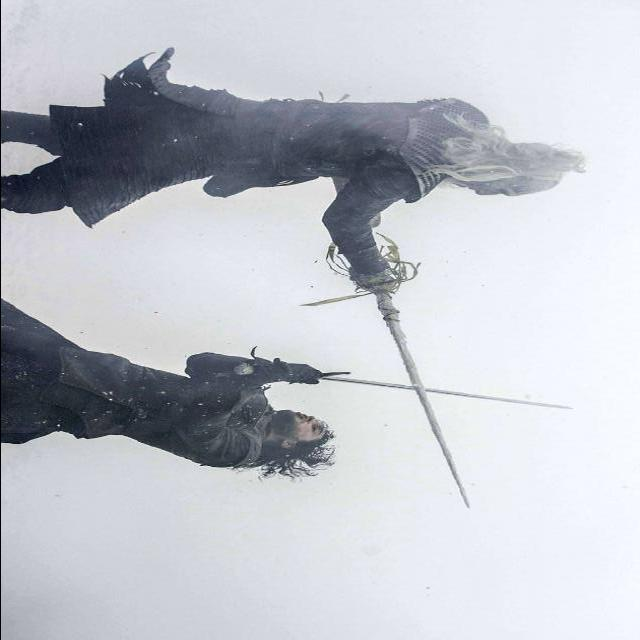sword: (336, 270, 476, 512), (232, 367, 575, 414)
